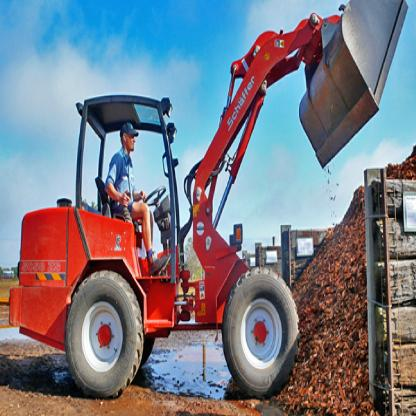bull_dozer/loader/grader: (17, 13, 374, 394)
